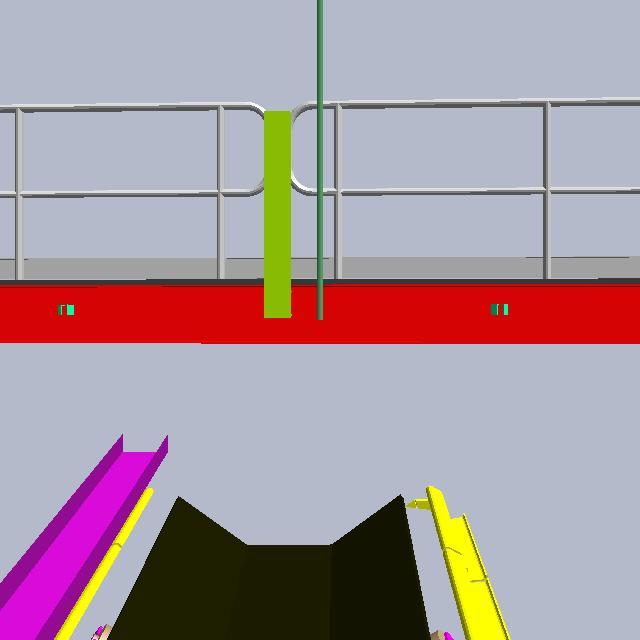Soporte: (250, 96, 302, 349), (311, 1, 330, 329)
